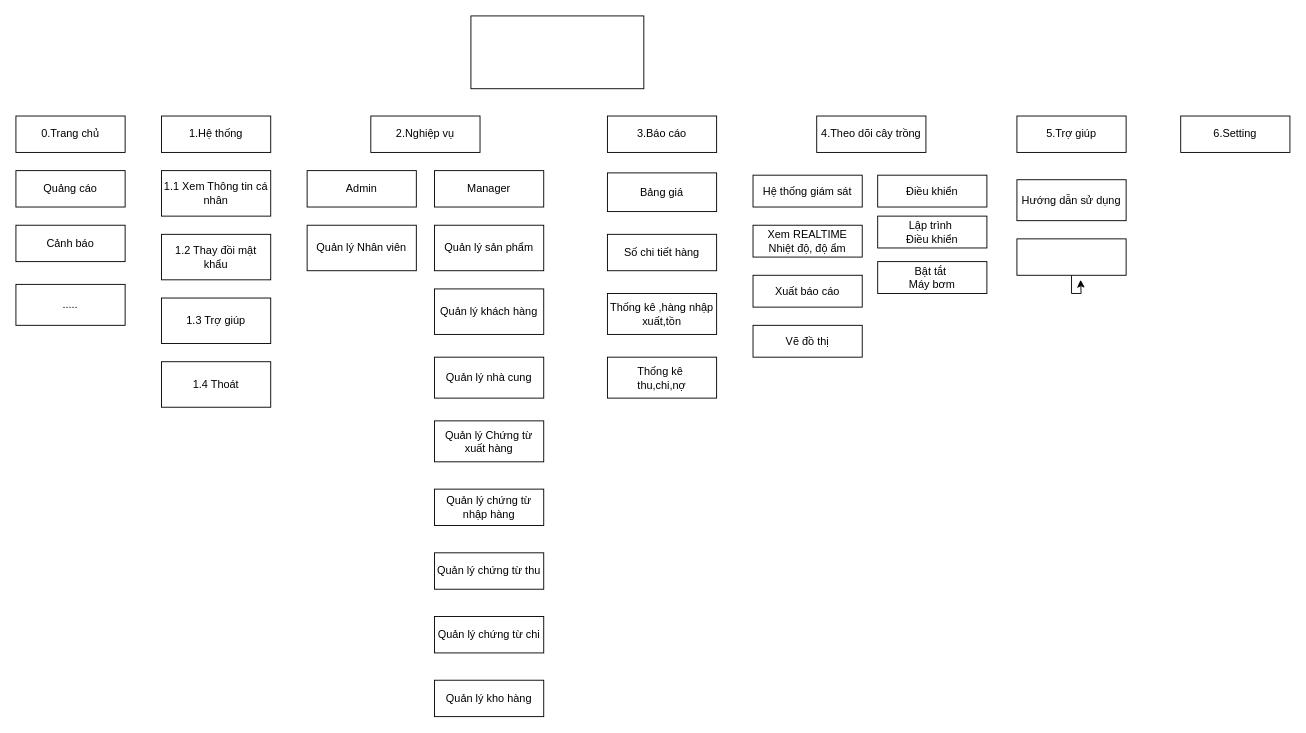
This 1306x733 diagram has some shape labels left out. The centre of each missing label's shape, as x and y in pixels:
"Quản lý bán hàng Điều khiển Chăm sóc cây trồng" goes at point (557, 52).
"Tác giả" goes at point (1071, 256).
